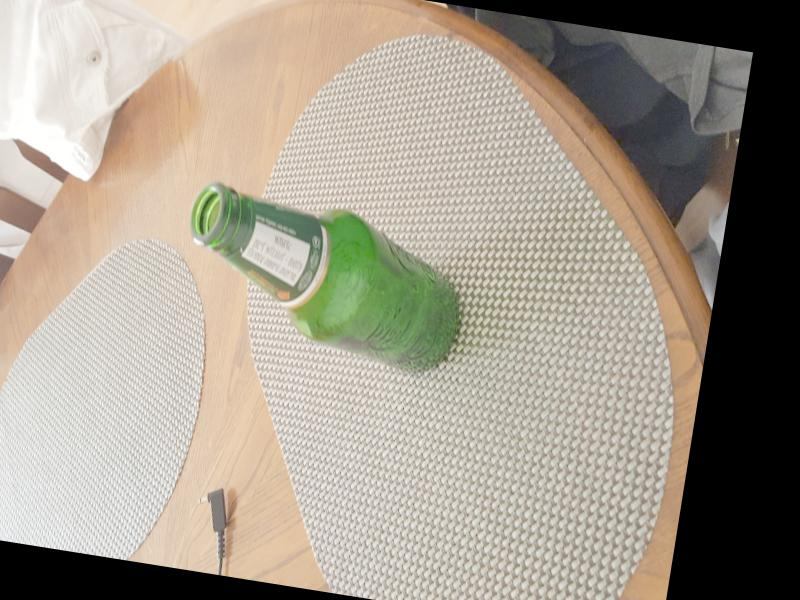Beer: (175, 190, 473, 380)
